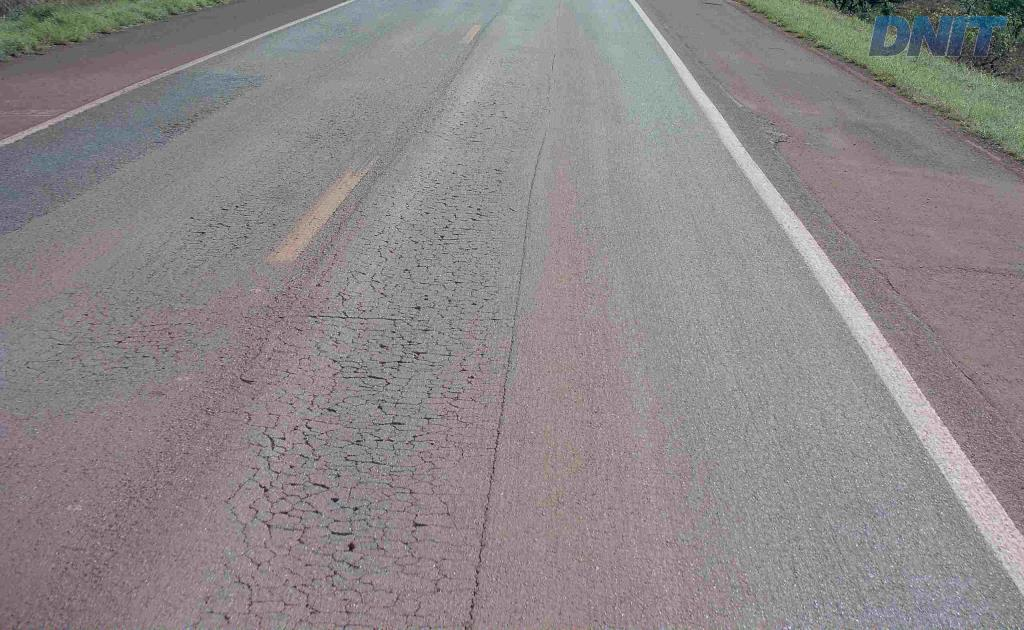crack: (329, 352, 416, 398)
